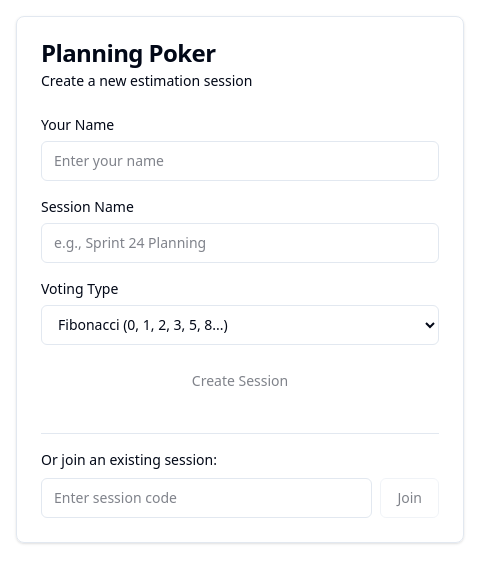
it: SessionCreate › should enable button when both fields are filled
Type "John" into the field with placeholder "Enter your name" at coordinates (240, 160), box [41, 140, 439, 180]
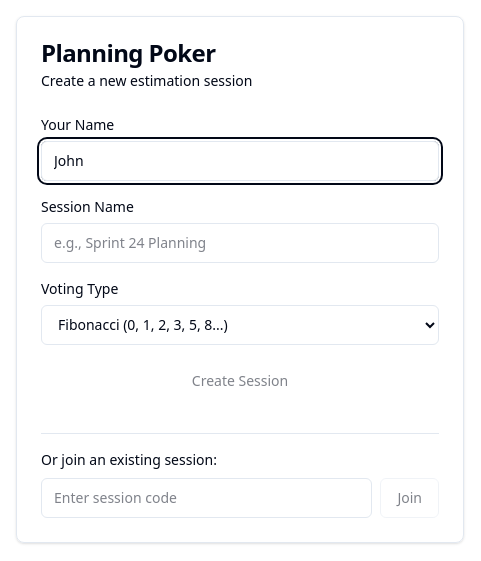
Type "Sprint 1" into the field with placeholder "e.g., Sprint 24 Planning" at coordinates (240, 242), box [41, 222, 439, 262]
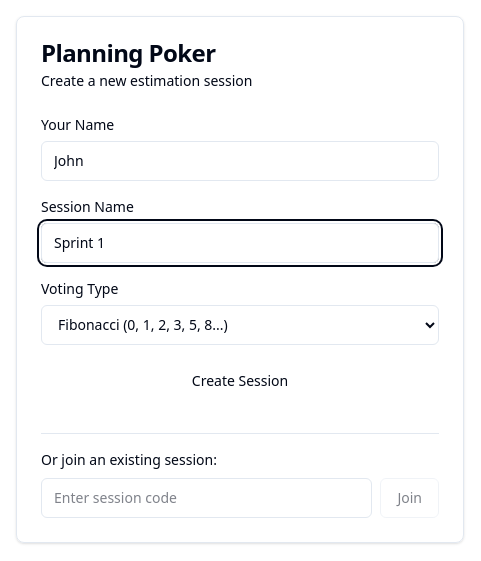
Check: the button "Create Session" is enabled, box [41, 360, 439, 400]
